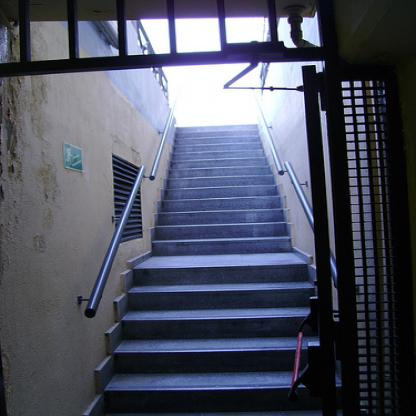stairs: (142, 265, 288, 414)
